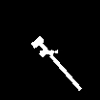double_crochet: (31, 36, 81, 90)
